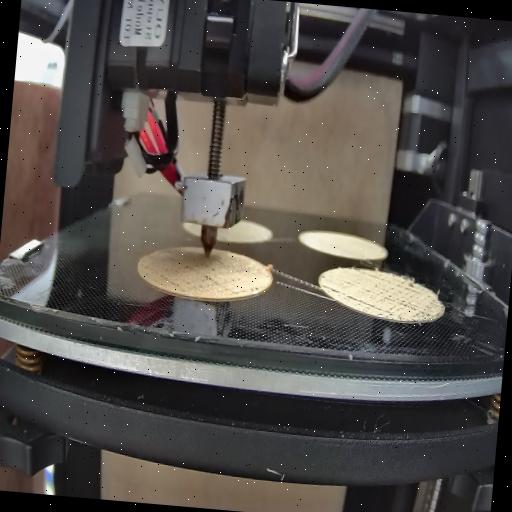under_extrusion: (346, 272, 438, 324), (141, 258, 260, 295), (318, 280, 344, 300)
